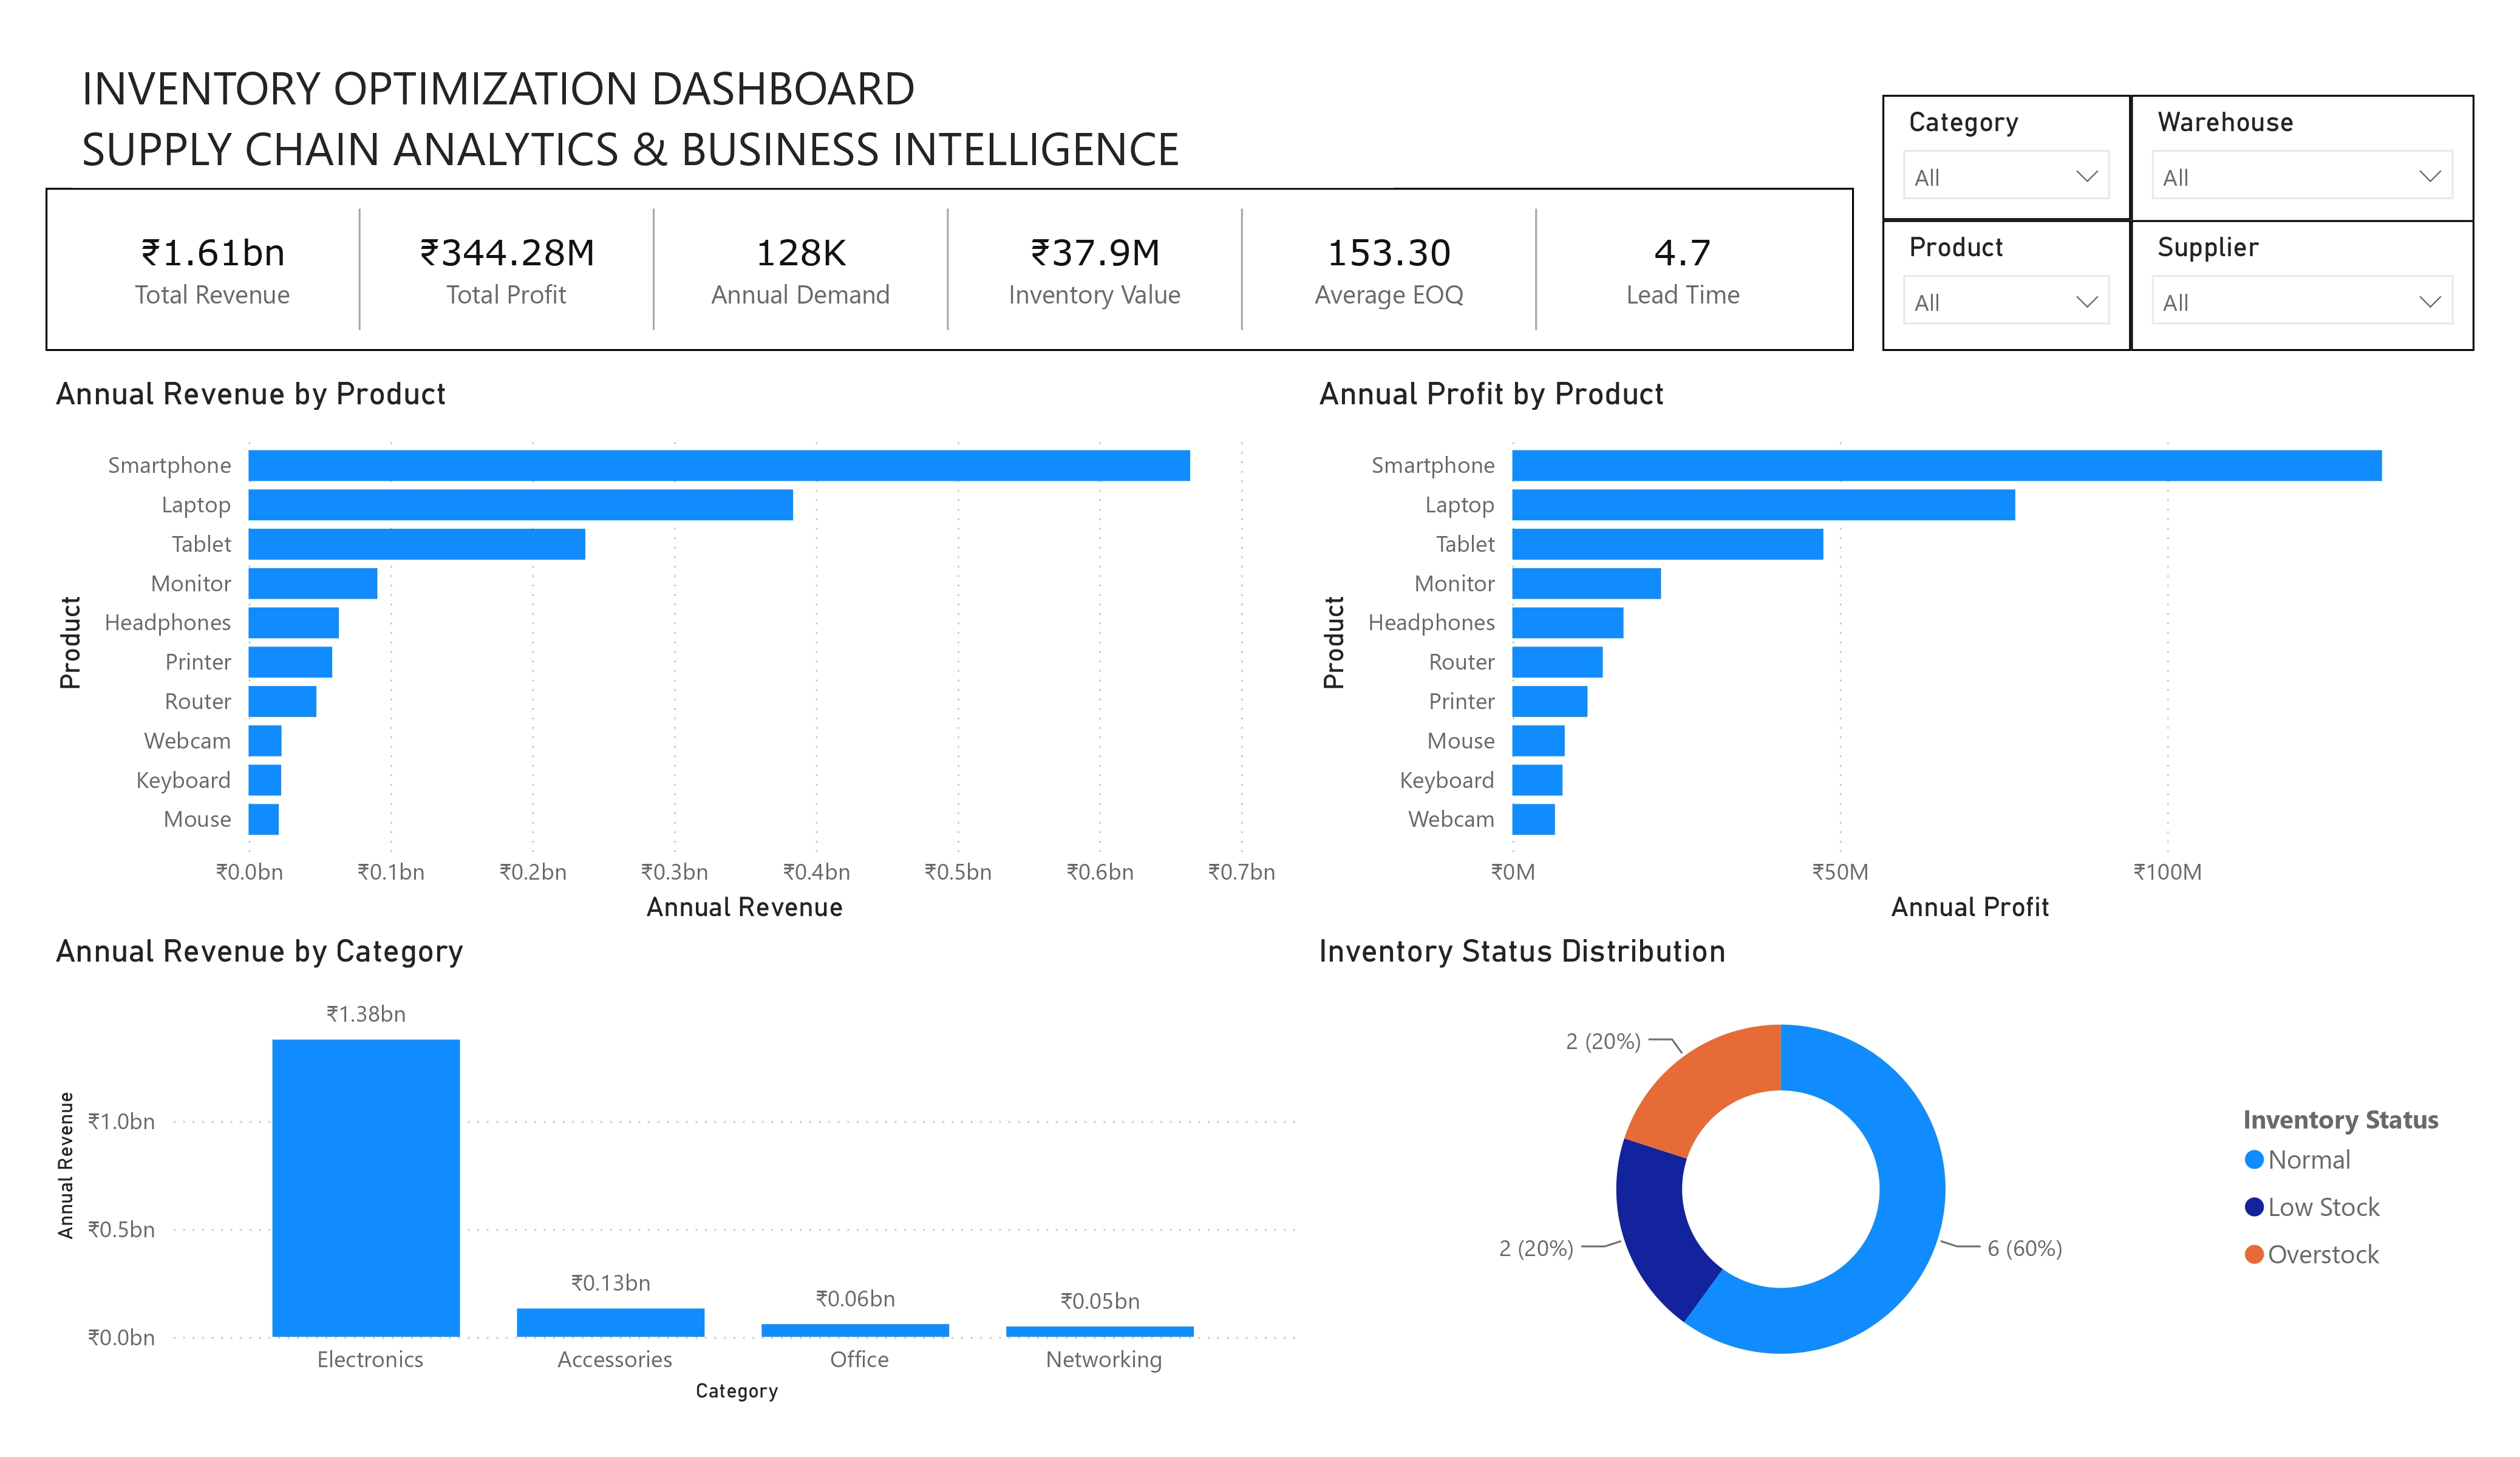

Layout of this report page (visuals, bound fields, positions):
{"tool":"powerbi","page":{"name":"EXECUTIVE DASHBOARD","canvas":[1280,720],"ordinal":0},"visuals":[{"type":"cardVisual","fields":{"Data":["Sum(master_inventory_dashboard.Annual_Revenue)","Sum(master_inventory_dashboard.Annual_Profit)","Sum(master_inventory_dashboard.Annual_Demand)","Sum(master_inventory_dashboard.Inventory_Value)","Avg(master_inventory_dashboard.EOQ)","Avg(master_inventory_dashboard.Lead_Time_Days)"]},"box":[0,75,953.1,85.9],"z":0},{"type":"textbox","box":[14.1,0,696.9,75],"z":1000},{"type":"clusteredBarChart","fields":{"Y":["Sum(master_inventory_dashboard.Annual_Revenue)"],"Category":["master_inventory_dashboard.Product"]},"box":[0,173.4,653.1,293.8],"z":2000},{"type":"clusteredBarChart","fields":{"Category":["master_inventory_dashboard.Product"],"Y":["Sum(master_inventory_dashboard.Annual_Profit)"]},"box":[665.6,173.4,614.1,293.8],"z":3000},{"type":"donutChart","title":"Inventory Status Distribution","fields":{"Category":["master_inventory_dashboard.Inventory_Status"],"Y":["CountNonNull(master_inventory_dashboard.Product)"]},"box":[665.6,467.2,614.1,253.1],"z":4000},{"type":"columnChart","fields":{"Y":["Sum(master_inventory_dashboard.Annual_Revenue)"],"Category":["master_inventory_dashboard.Category"]},"box":[0,467.2,665.6,253.1],"z":5000},{"type":"slicer","fields":{"Values":["master_inventory_dashboard.Product"]},"box":[967.6,92.4,131.7,68.1],"z":6000},{"type":"slicer","fields":{"Values":["master_inventory_dashboard.Category"]},"box":[967.6,25.7,131.7,66.6],"z":7000},{"type":"slicer","fields":{"Values":["master_inventory_dashboard.Warehouse"]},"box":[1099.3,25.7,180.2,68.1],"z":9000},{"type":"slicer","fields":{"Values":["master_inventory_dashboard.Supplier"]},"box":[1099.3,92.4,180.2,68.1],"z":11000}]}

Visuals, with their boxes on the page's 1280x720 design canvas (x1, y1, x2, y2). These are canvas units, not pixel positions in the 2520x1457 screenshot, which may show the page scaled, cropped or inside an application window:
cardVisual - Sum(master_inventory_dashboard.Annual_Revenue) x Sum(master_inventory_dashboard.Annual_Profit): x1=0 y1=75 x2=953 y2=161
textbox: x1=14 y1=0 x2=711 y2=75
clusteredBarChart - Sum(master_inventory_dashboard.Annual_Revenue) x master_inventory_dashboard.Product: x1=0 y1=173 x2=653 y2=467
clusteredBarChart - master_inventory_dashboard.Product x Sum(master_inventory_dashboard.Annual_Profit): x1=666 y1=173 x2=1280 y2=467
"Inventory Status Distribution" donutChart: x1=666 y1=467 x2=1280 y2=720
columnChart - Sum(master_inventory_dashboard.Annual_Revenue) x master_inventory_dashboard.Category: x1=0 y1=467 x2=666 y2=720
slicer - master_inventory_dashboard.Product: x1=968 y1=92 x2=1099 y2=160
slicer - master_inventory_dashboard.Category: x1=968 y1=26 x2=1099 y2=92
slicer - master_inventory_dashboard.Warehouse: x1=1099 y1=26 x2=1280 y2=94
slicer - master_inventory_dashboard.Supplier: x1=1099 y1=92 x2=1280 y2=160
